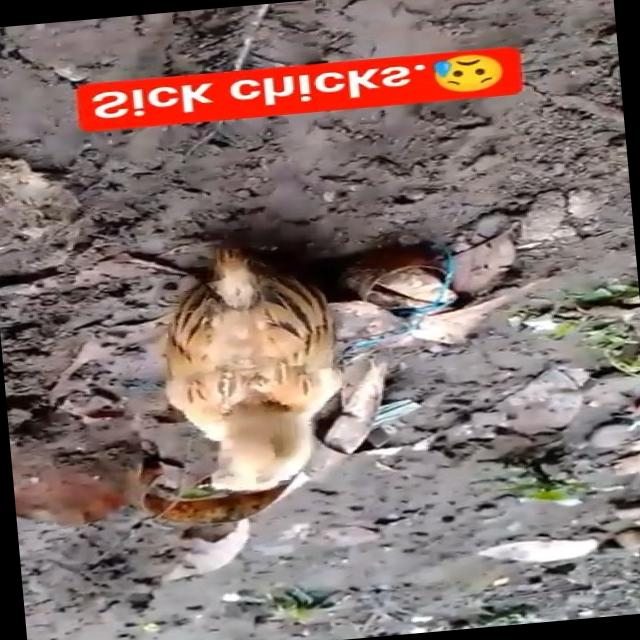abnormal chicken: (136, 233, 414, 522)
